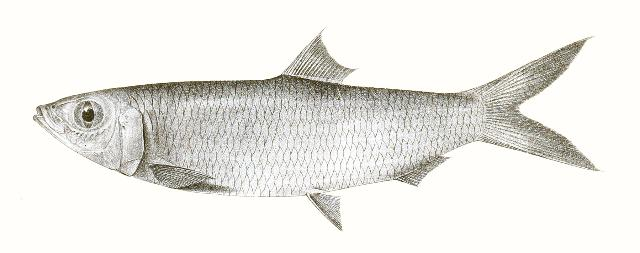Mulut: (17, 101, 82, 146)
Sirip Anal: (394, 150, 452, 194)
Sirip Dada: (144, 158, 220, 198)
Sirip Ekor: (490, 28, 606, 182)
Sirip Perut: (302, 184, 350, 236)
Sirip Punggung: (278, 27, 364, 93)
